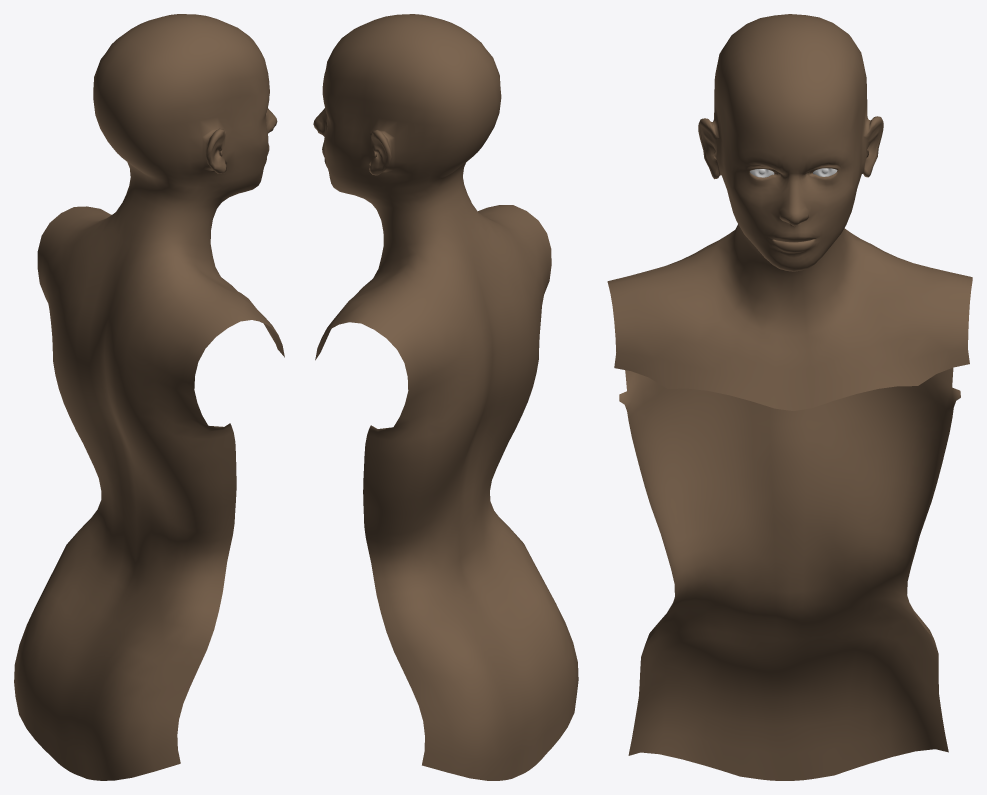
The model's file is Busto_Verdadeiro.glb.
3 views of the same model, side by side, from view 1: azimuth 30°, elevation 25°; view 2: azimuth 150°, elevation 25°; view 3: azimuth 270°, elevation 25° (orthographic). The views are drawn at different scales.
Visible parts, largest first — view 1: !Low.poly.MBLab.03-27-2021.001; view 2: !Low.poly.MBLab.03-27-2021.001; view 3: !Low.poly.MBLab.03-27-2021.001.
Boxes of the visible parts, x1,y1,x2,y2 form: !Low.poly.MBLab.03-27-2021.001: (14,14,284,780); !Low.poly.MBLab.03-27-2021.001: (313,14,578,780); !Low.poly.MBLab.03-27-2021.001: (607,14,972,780).
Bounding box in the file's own units: 2.81 × 8.83 × 3.56.
